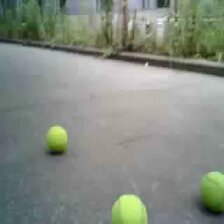tennis: (111, 196, 149, 224), (198, 171, 224, 209), (47, 125, 67, 154)
